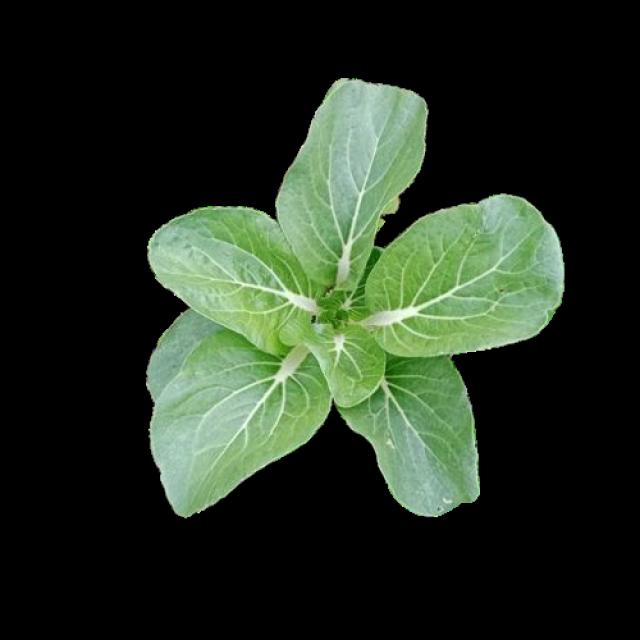healthy: (143, 78, 562, 515)
mature: (146, 81, 564, 517)
